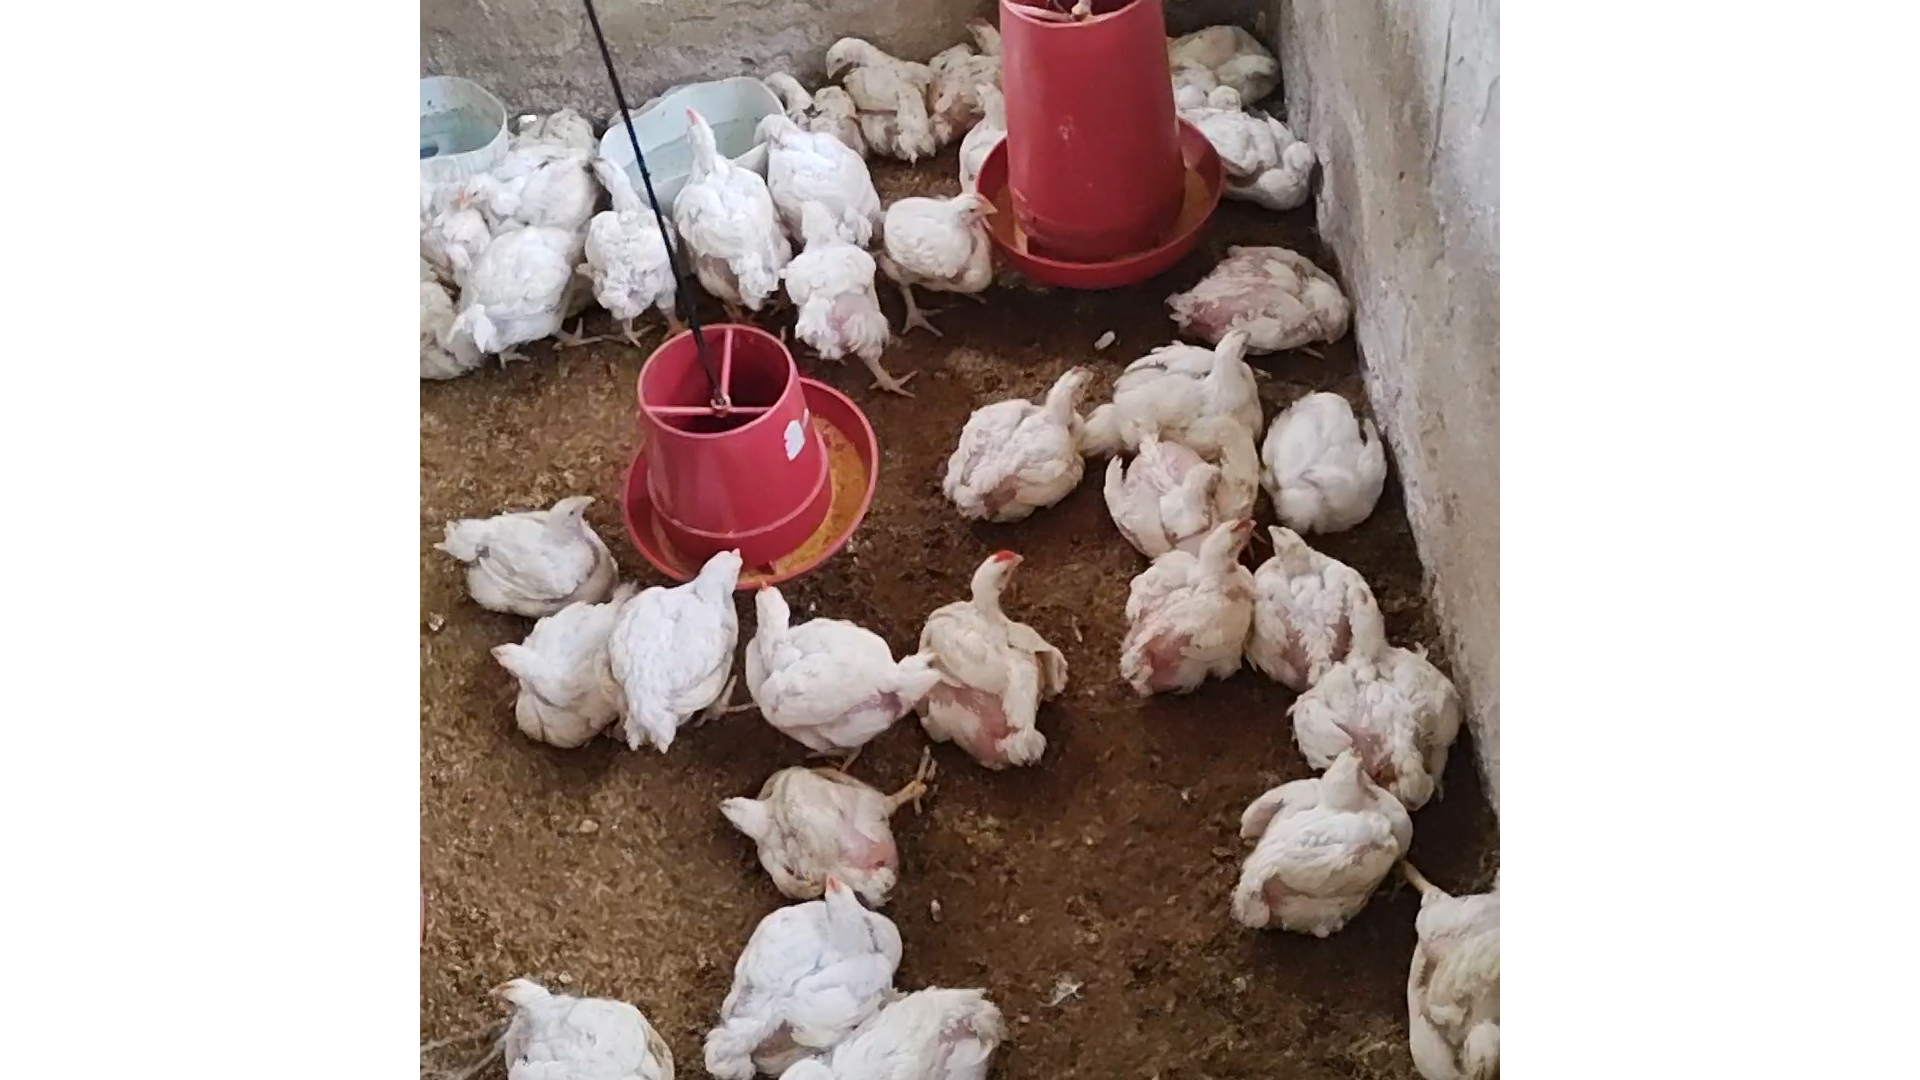Pollos: (698, 861, 906, 1075), (1286, 583, 1474, 808), (1225, 736, 1414, 938), (742, 574, 931, 757), (916, 541, 1069, 766), (709, 761, 902, 909), (484, 574, 638, 757), (609, 545, 750, 740), (785, 195, 916, 402), (1121, 516, 1265, 696), (938, 360, 1102, 517), (789, 967, 1015, 1080), (448, 212, 585, 398), (673, 105, 789, 307), (1106, 411, 1265, 556), (443, 489, 622, 616), (1083, 327, 1263, 451), (1166, 244, 1352, 363), (1254, 517, 1389, 680), (1395, 866, 1498, 1080), (487, 972, 673, 1080), (745, 107, 881, 251), (1255, 386, 1389, 527), (585, 150, 680, 335), (820, 32, 942, 166), (1178, 109, 1323, 212), (885, 190, 1000, 302), (458, 152, 607, 231), (953, 78, 1010, 204), (1179, 21, 1278, 94), (949, 7, 1010, 70)
